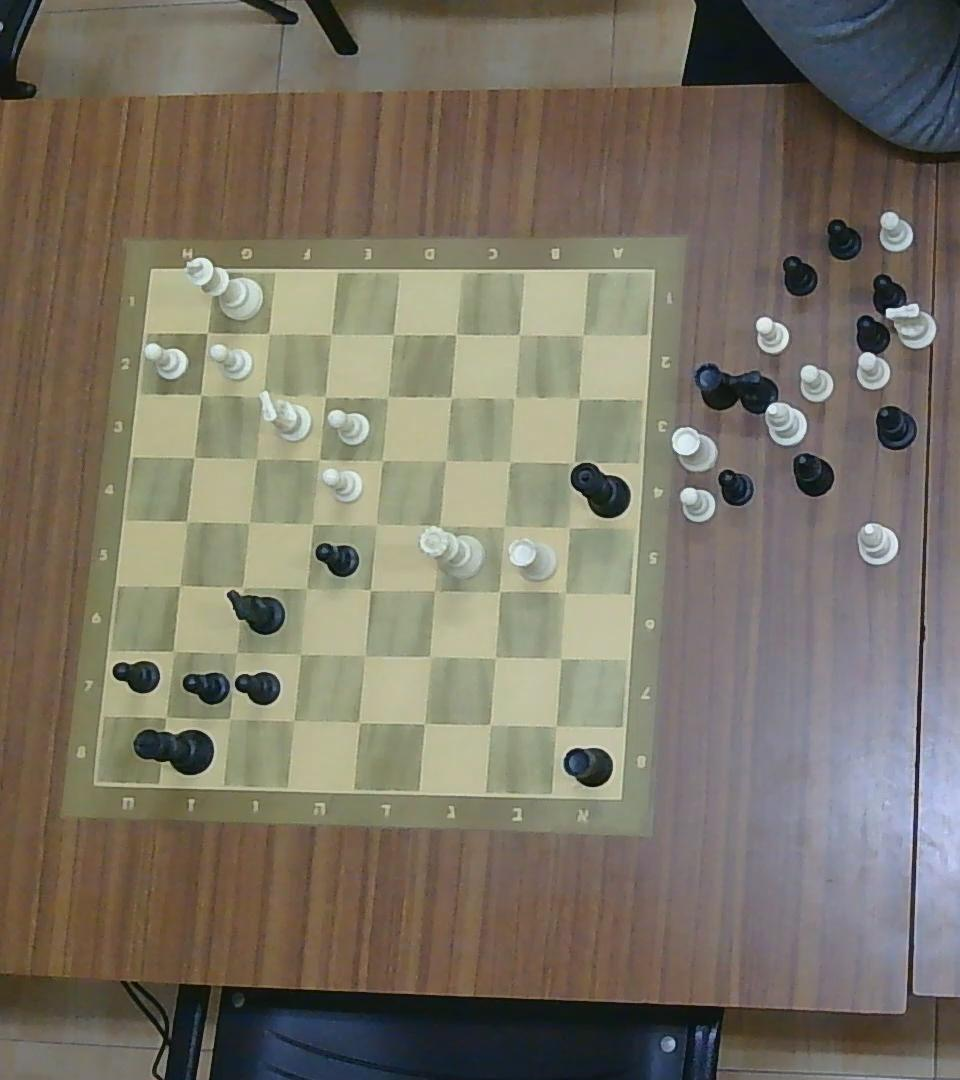xcorner: (215, 705, 241, 732), (417, 642, 443, 669), (477, 710, 503, 737), (280, 706, 305, 734), (411, 709, 437, 735), (153, 702, 179, 728), (543, 712, 569, 738), (352, 641, 377, 668), (486, 578, 511, 605), (167, 572, 192, 598), (547, 645, 573, 670), (425, 513, 450, 539), (346, 709, 371, 734), (481, 645, 506, 670), (375, 383, 399, 409), (421, 577, 445, 603), (288, 639, 311, 666), (174, 507, 198, 532), (552, 579, 576, 604), (358, 576, 382, 601), (558, 448, 582, 473), (558, 513, 581, 539), (162, 638, 185, 664), (491, 514, 515, 538), (229, 575, 253, 599), (236, 510, 259, 535), (224, 640, 247, 665), (318, 321, 341, 346), (380, 321, 403, 346), (438, 384, 461, 408), (364, 512, 387, 536), (294, 575, 317, 599), (257, 320, 280, 344), (188, 381, 211, 405), (250, 381, 273, 405), (570, 322, 594, 345), (498, 448, 520, 473), (300, 511, 323, 534), (306, 447, 329, 470), (182, 445, 204, 469), (433, 448, 455, 472), (196, 320, 218, 344), (369, 448, 391, 472), (245, 447, 267, 470), (444, 322, 466, 345), (508, 323, 530, 345), (503, 385, 524, 407), (315, 385, 335, 407), (568, 387, 588, 408)
